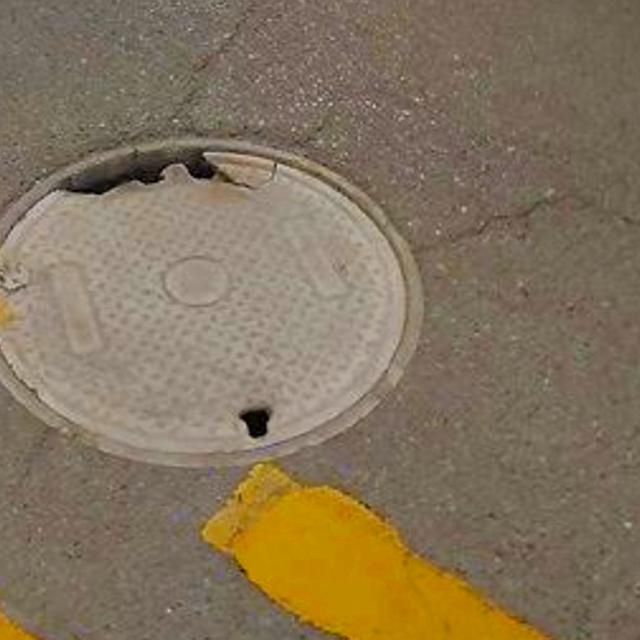broke: (0, 117, 438, 480)
